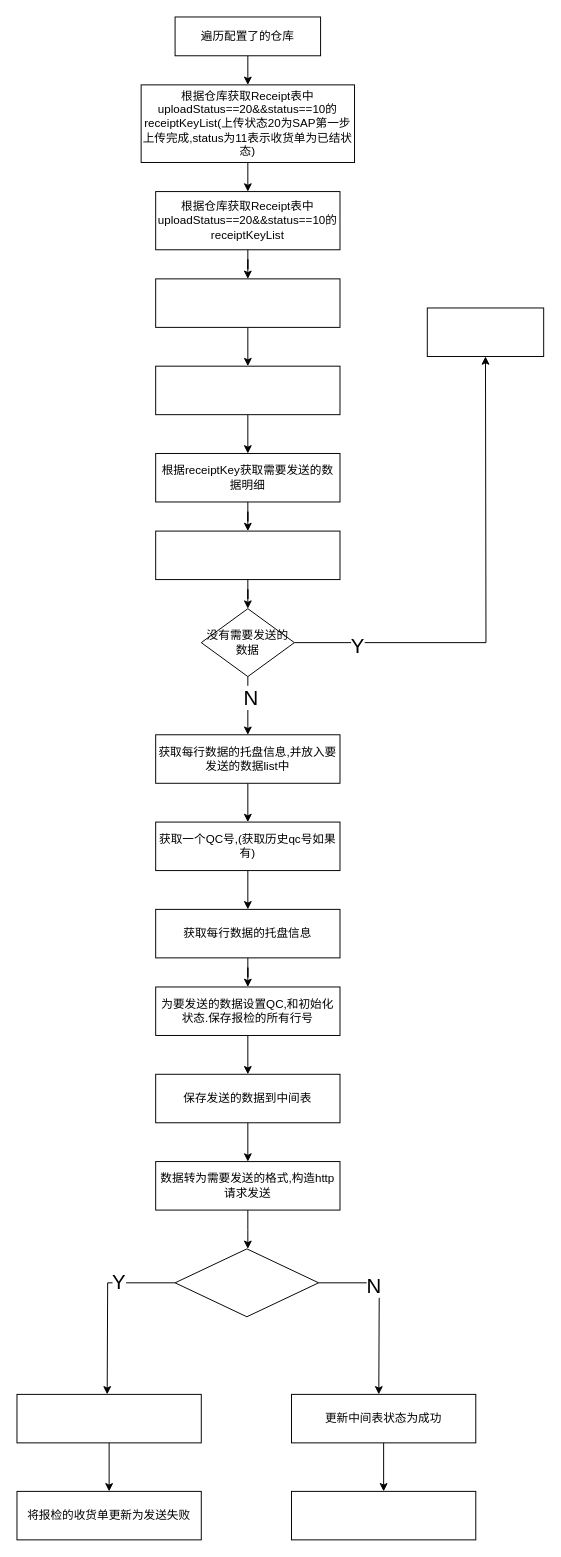
Some shapes in this 561 by 1557 pixel diagram are drawn without their labels. The shapes that lost their labels are listed below. From the top down, each one's box as (x1, y1, x2, y2) in pixels, then its label:
(155, 278, 340, 327): receiptKeyList的uploadStatus更新为25
(426, 307, 544, 356): 退出
(155, 365, 340, 415): 遍历receiptKeyList
(155, 530, 340, 580): 根据是否QC的条件移除不需要QC的数据
(174, 1248, 319, 1317): 判断返回结果是否成功
(16, 1393, 201, 1443): 更新中间表状态为失败
(291, 1490, 476, 1540): 将报检的收货单头更新为发送成功,发送的明细行更新为发送成功,未发送的标识为不需要发送
